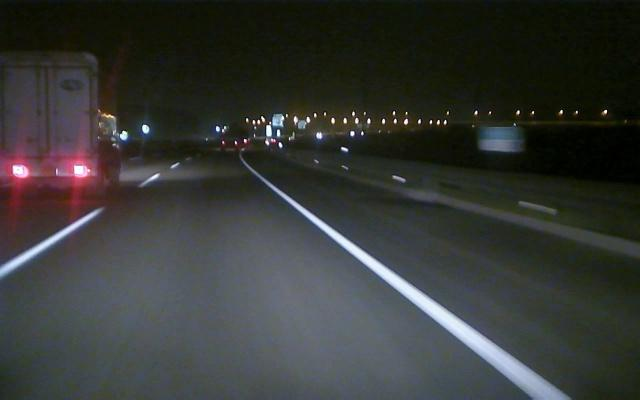lane: (244, 164, 570, 397), (1, 176, 158, 278)
